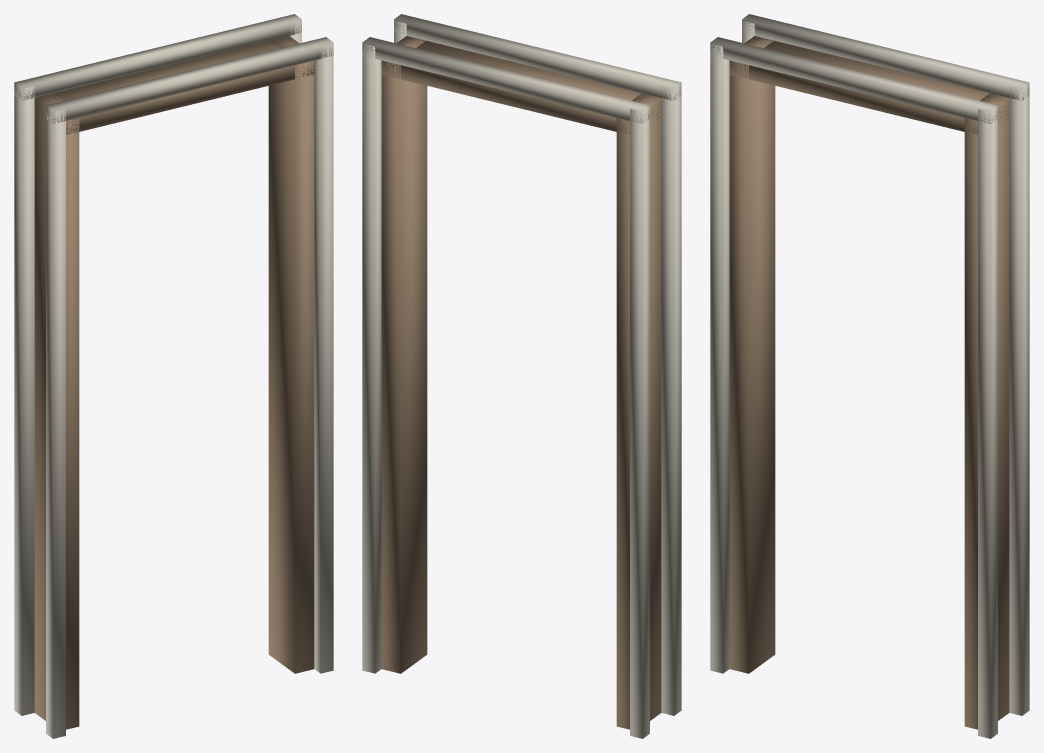
File: doorway_painted_trim_w76_h200_d16.glb
3 views of the same model, side by side, from view 1: azimuth 30°, elevation 25°; view 2: azimuth 150°, elevation 25°; view 3: azimuth 330°, elevation 25° (orthographic).
Visible parts, largest first — view 1: world; view 2: world; view 3: world.
Part boxes in pixels (x1=…): world: x1=14, y1=14, x2=333, y2=738; world: x1=362, y1=14, x2=681, y2=738; world: x1=710, y1=14, x2=1029, y2=738.
Bounding box in the file's own units: 0.9868 × 2.11 × 0.2365.
